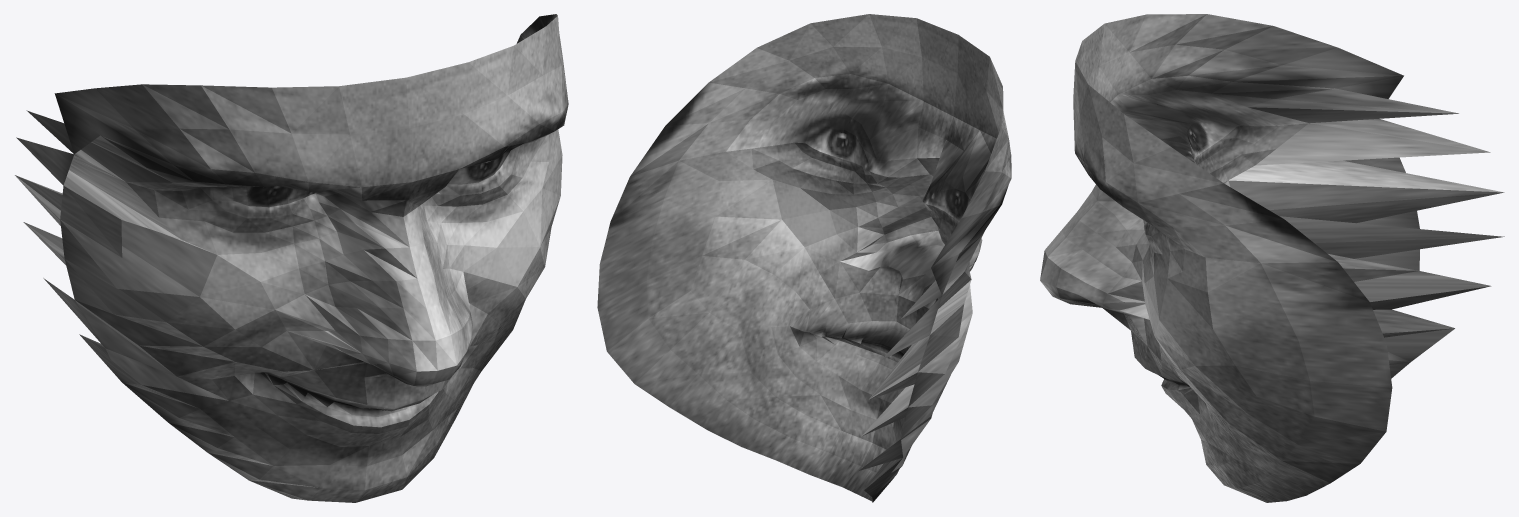
The model's file is ted_bundy_3d.glb.
The picture shows the model from 3 angles, left to right: view 1: azimuth 30°, elevation 25°; view 2: azimuth 150°, elevation 25°; view 3: azimuth 270°, elevation 25°; orthographic projection. The views are drawn at different scales.
Visible parts, largest first — view 1: geometry_0; view 2: geometry_0; view 3: geometry_0.
Boxes of the visible parts, left/top/right/bottom form: geometry_0: left=15, top=14, right=568, bottom=502; geometry_0: left=597, top=14, right=1011, bottom=502; geometry_0: left=1040, top=14, right=1504, bottom=502.
Size of the model in its own units: 0.4058 by 0.4595 by 0.4505.
1 material, 1 textured.
